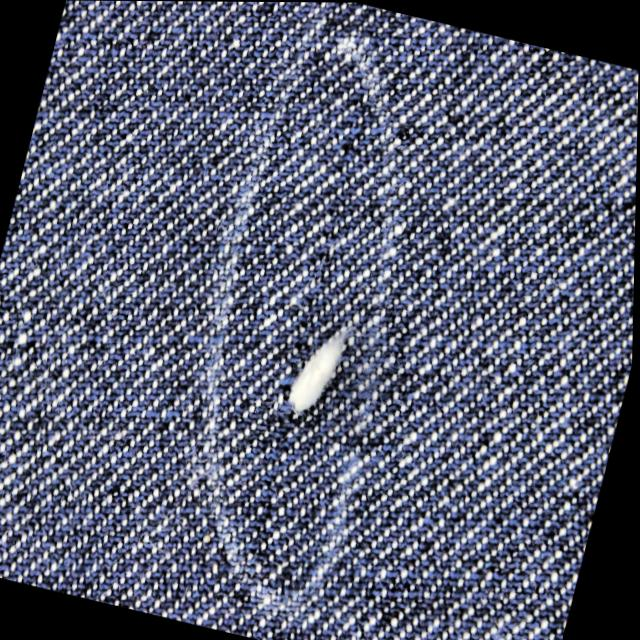Hole: (292, 331, 351, 407)
